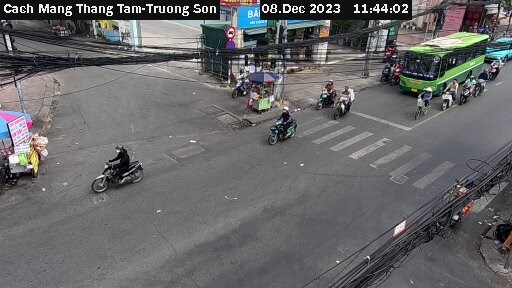bus: (398, 32, 488, 91)
motorbike: (87, 145, 158, 200), (266, 106, 302, 148), (308, 79, 338, 109), (333, 83, 356, 122), (438, 82, 459, 111), (459, 78, 475, 103), (474, 68, 488, 95), (488, 57, 504, 79)
